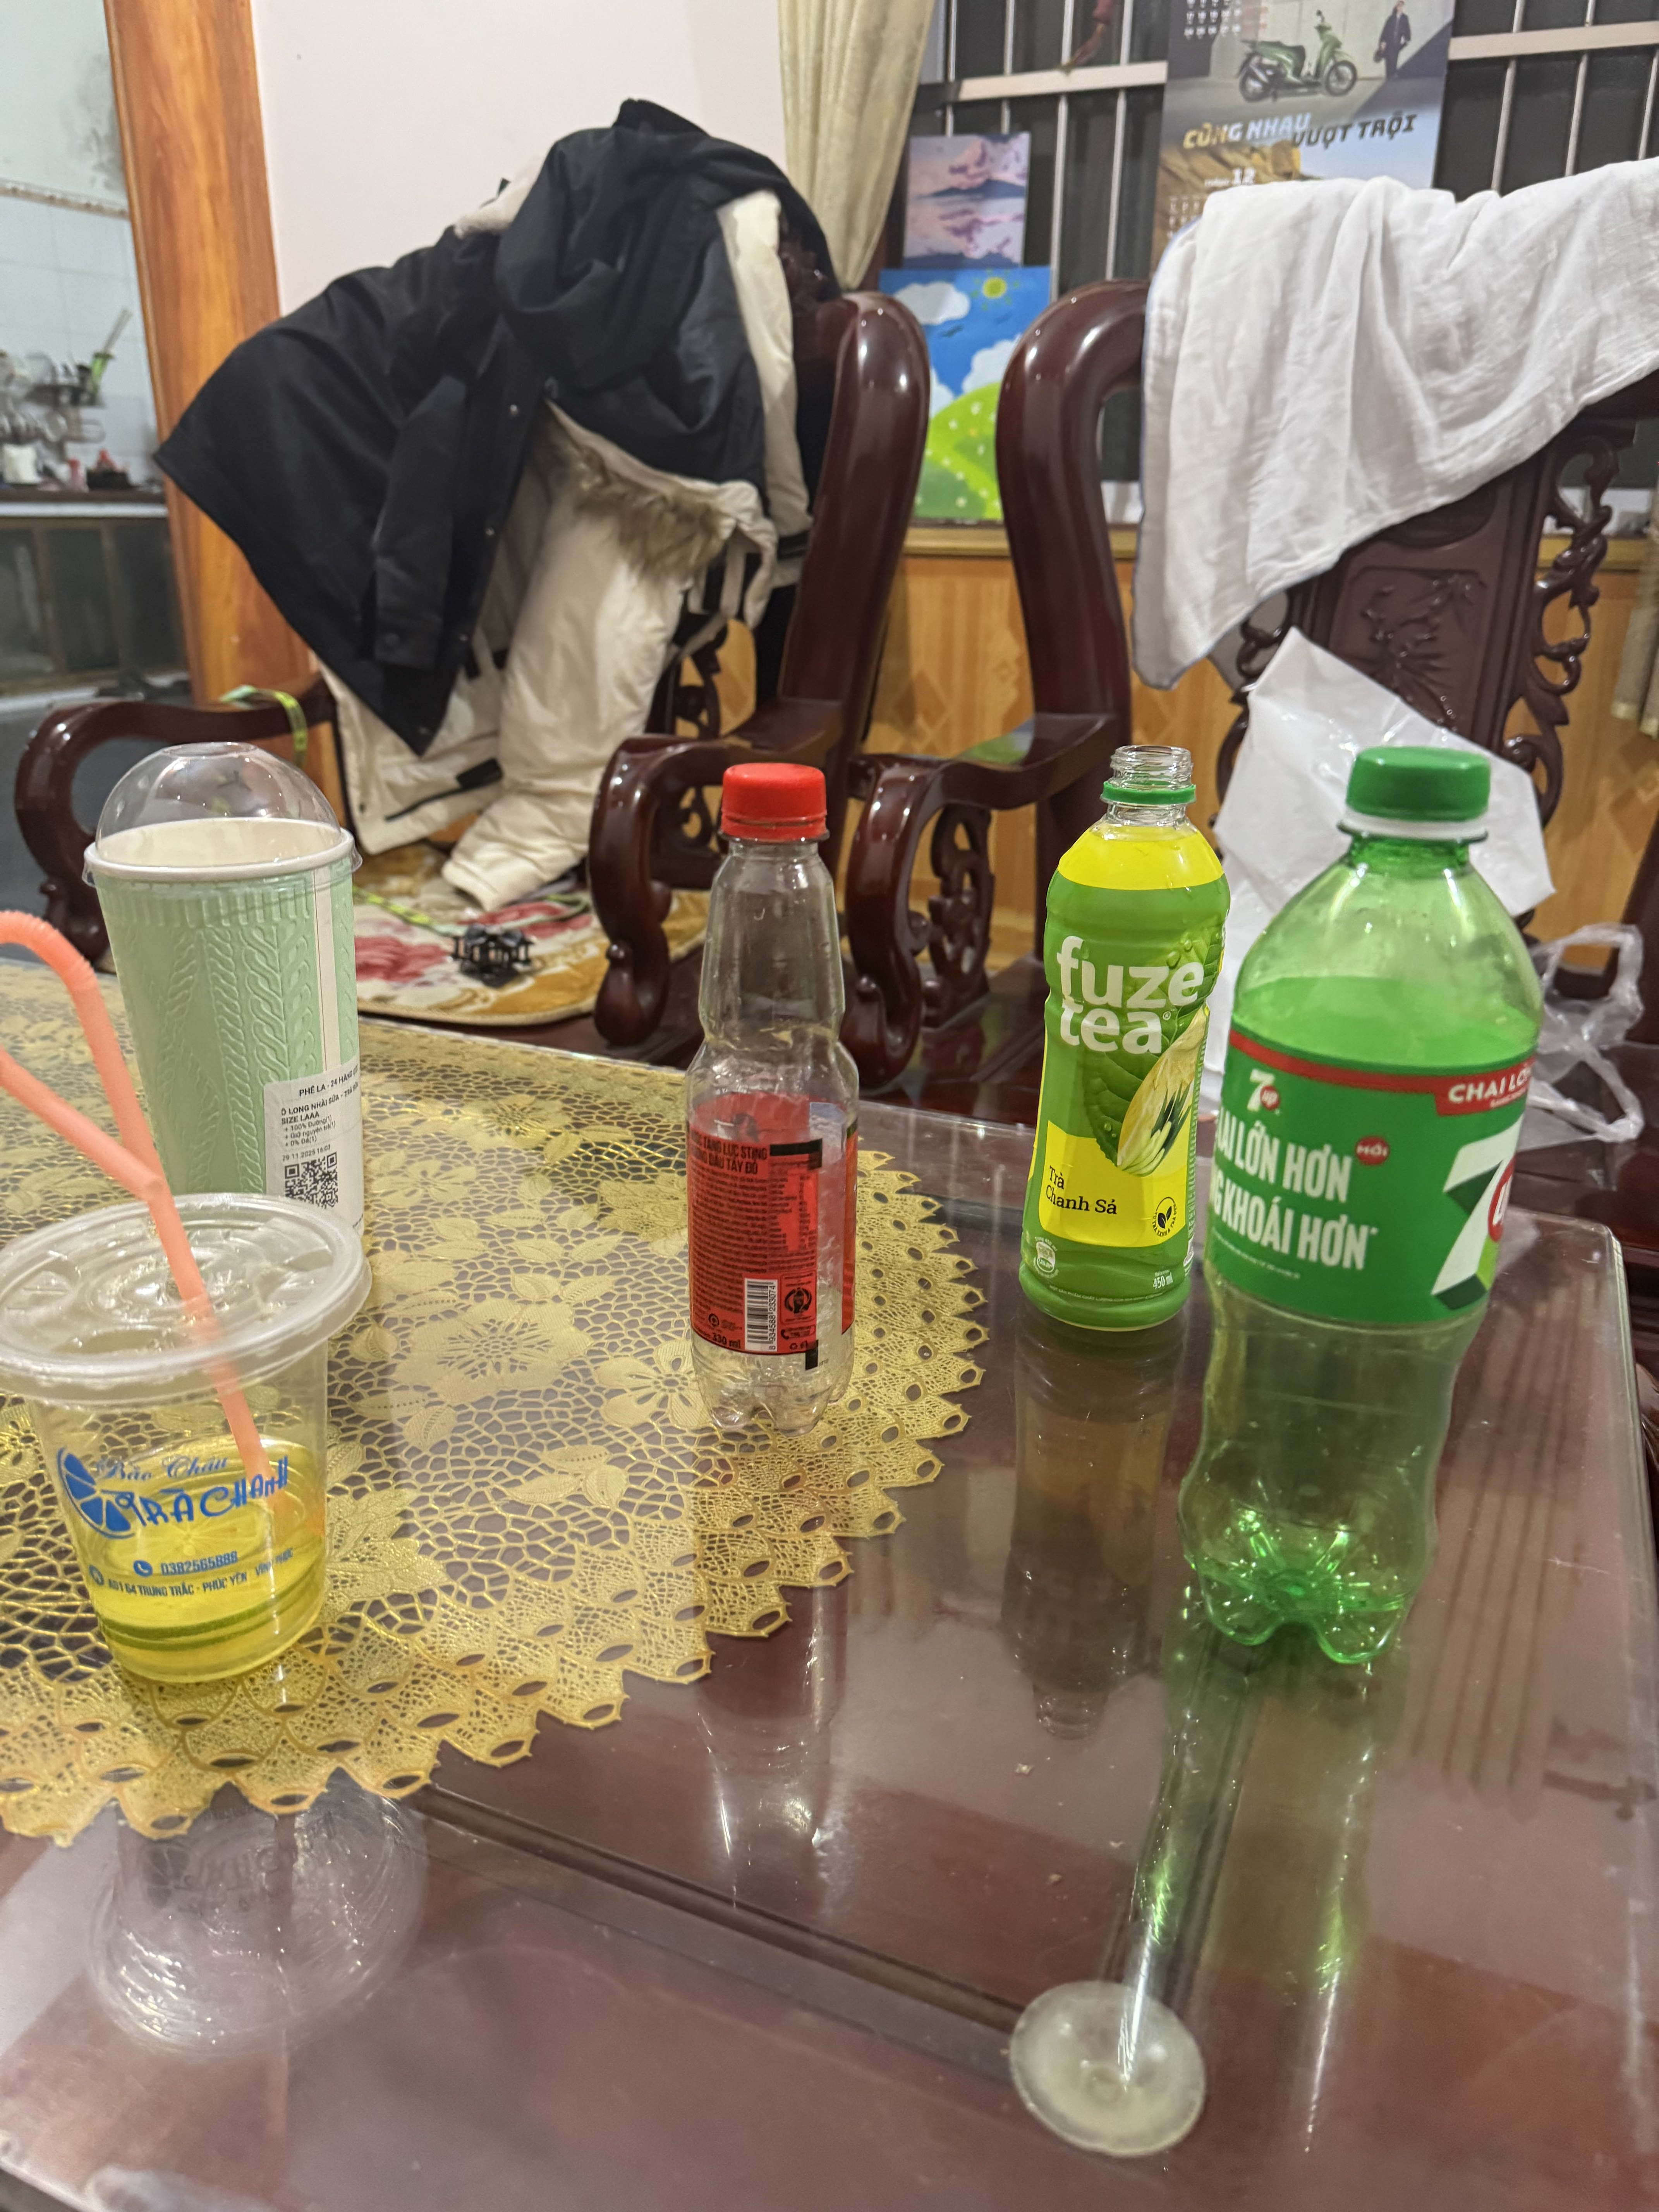bottle: (1176, 709, 1563, 1691), (655, 732, 899, 1446), (1006, 702, 1227, 1343)
cup: (0, 1163, 415, 1742), (77, 711, 389, 1299)
